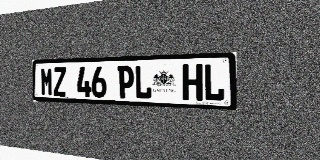4: (77, 66, 91, 97)
6: (91, 66, 107, 98)
H: (183, 64, 203, 101)
L: (203, 63, 225, 102), (135, 65, 152, 99)
M: (41, 67, 53, 96)
P: (118, 65, 134, 99)
Z: (53, 67, 66, 96)
